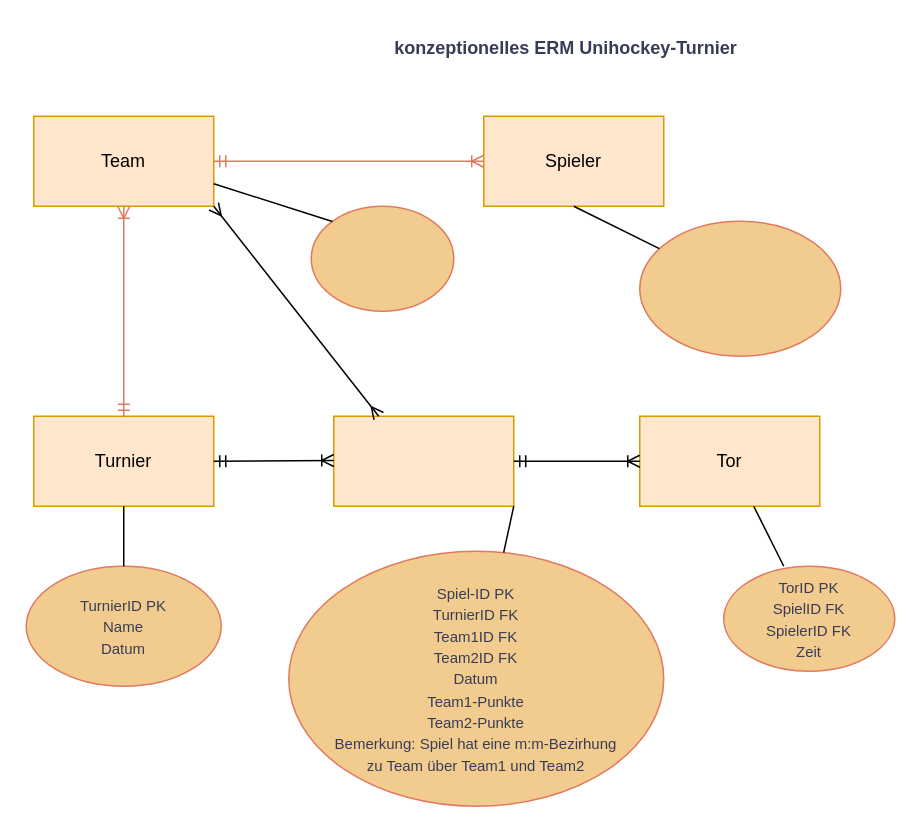
The diagram is 921 pixels wide and 833 high, and some of its shapes have lost their labels. Each missing label, with the box of its shape:
Spiel: (332, 415, 514, 506)
SpielerID PK Vorname Nachname TeamID FK: (638, 220, 841, 356)
TeamID PK Name: (310, 205, 454, 311)
